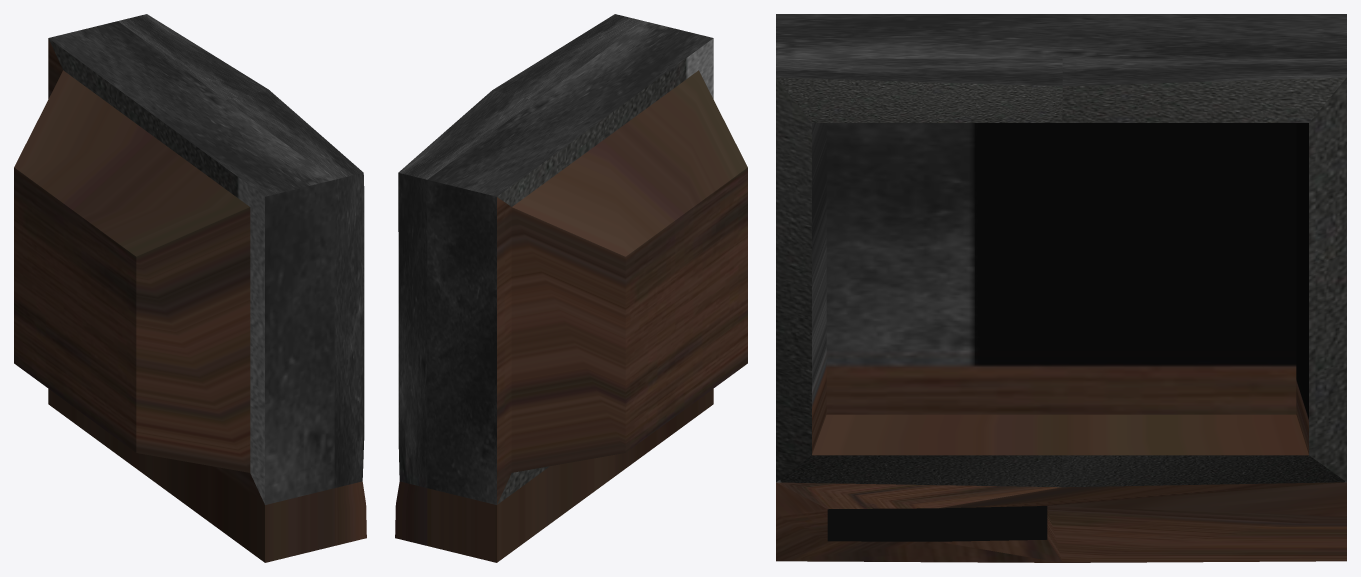
The model's file is Blender CRT TV Table Plastic & Walnutglb.glb.
The picture shows the model from 3 angles, left to right: view 1: azimuth 30°, elevation 25°; view 2: azimuth 150°, elevation 25°; view 3: azimuth 270°, elevation 25°; orthographic projection. The views are drawn at different scales.
Visible parts, largest first — view 1: Cube; view 2: Cube; view 3: Cube.
Part boxes in pixels (x1,y1,x2,y2): Cube: (14, 14, 366, 562); Cube: (395, 14, 747, 562); Cube: (776, 14, 1346, 562).
Size of the model in its own units: 4.79 by 8.63 by 9.26.
Materials: 1 (1 with a texture image).
